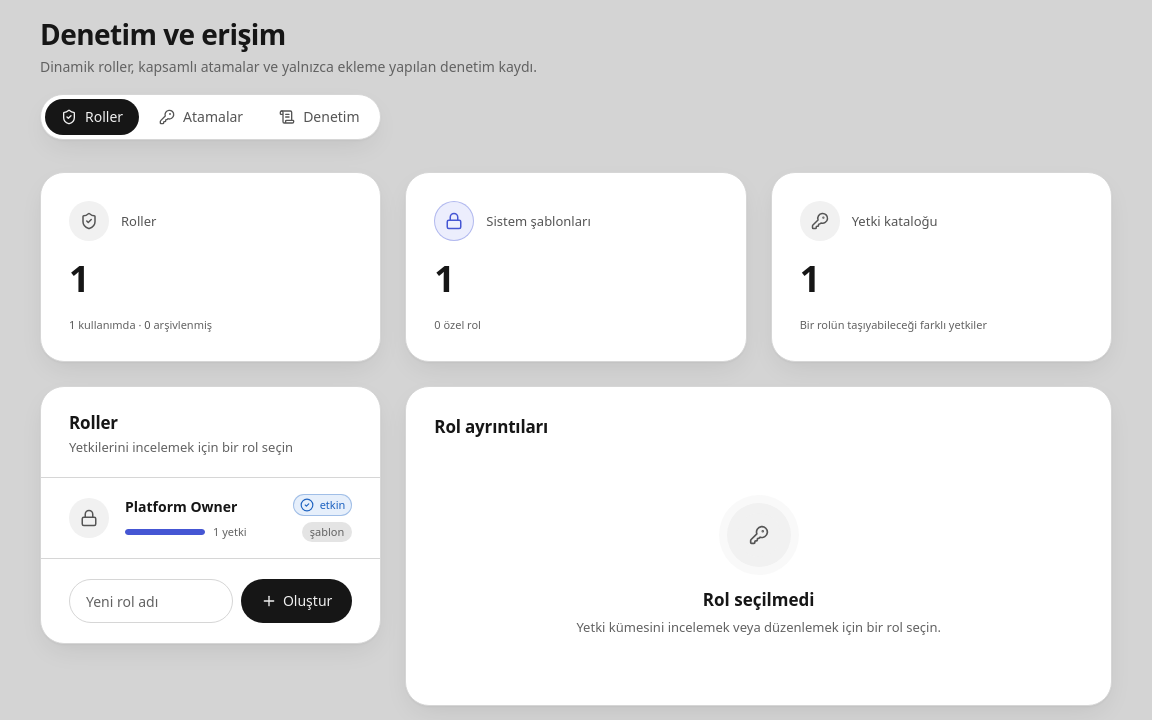
Audit & access page in Turkish › renders the header, tabs and the roles panel through the catalogue
Expected: the list with test id "role-list" is shown, [41, 478, 380, 558]
Expected: the heading "Denetim ve erişim" is shown, [40, 16, 286, 52]
Click the text "Platform Owner": click(181, 506) [125, 497, 237, 516]
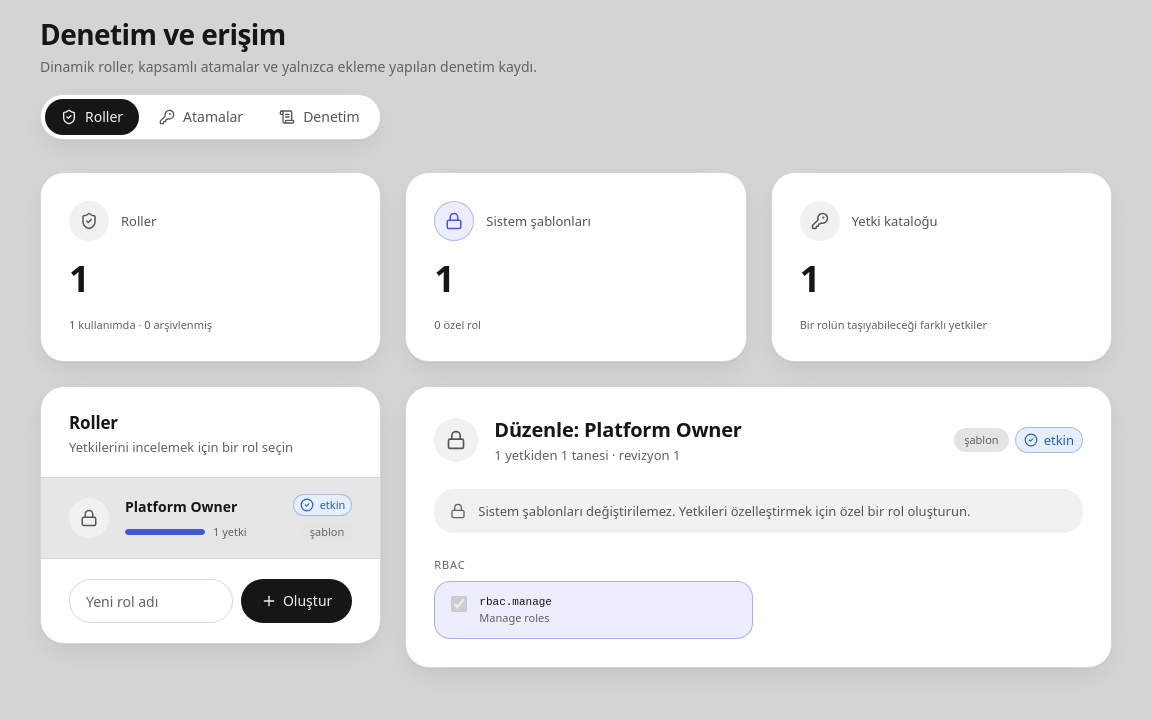
Now the element with test id "permission-matrix" is shown, box [433, 557, 753, 639]
Now the text "Sistem şablonları değiştirilemez" is shown, box [478, 502, 970, 520]
